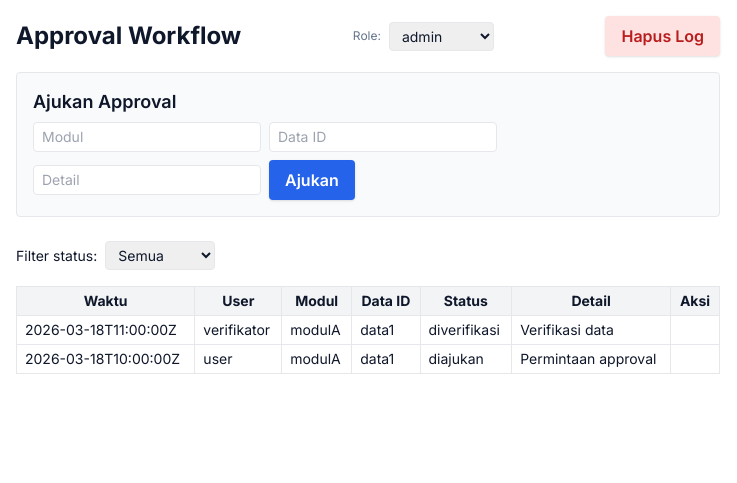
Test: verifikator dapat verifikasi approval
The width and height of the screenshot is (737, 483).
Expected: the text "Permintaan approval" is shown, left=512, top=345, right=670, bottom=374
Select "verifikator" in the dropdown named "Role Switch": (441, 36) left=389, top=22, right=494, bottom=50
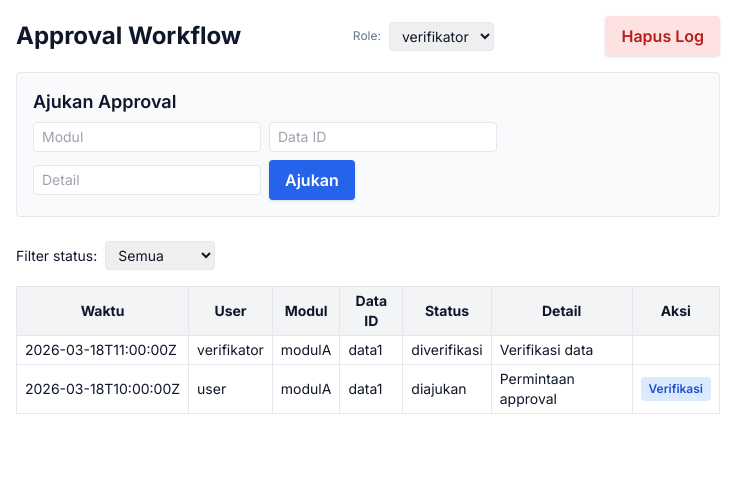
Now the button "Verifikasi" is shown
Click the button "Verifikasi": (676, 389) left=640, top=377, right=711, bottom=401
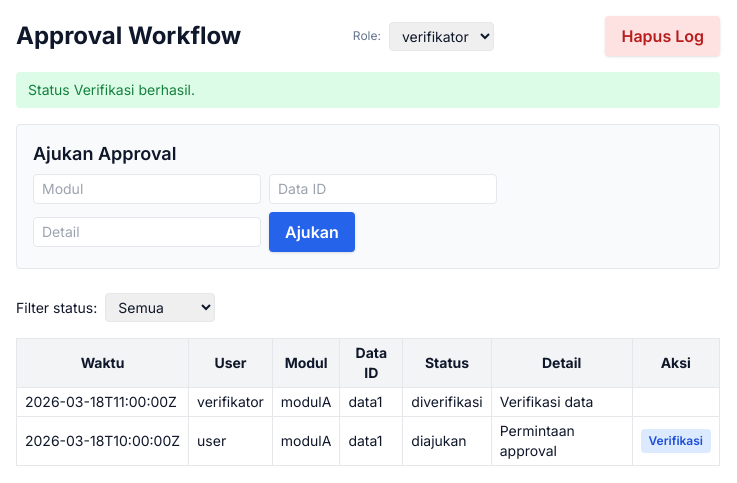
Now the text "Status Verifikasi berhasil." is shown, box left=16, top=72, right=720, bottom=108
